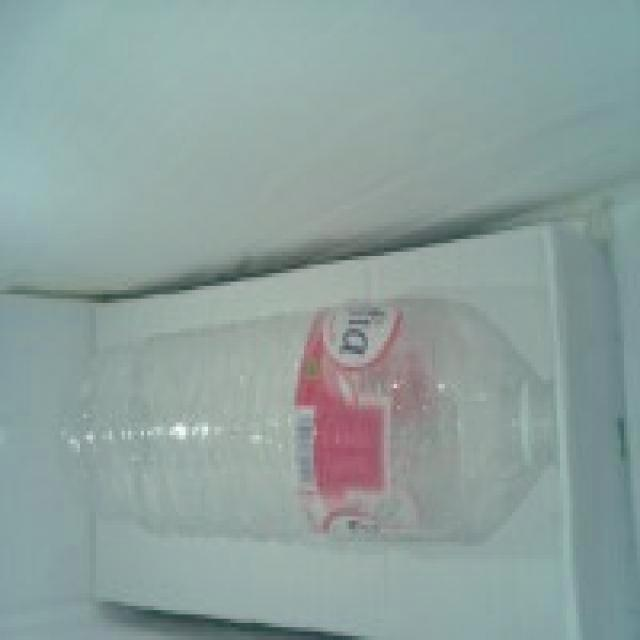bottle: (62, 297, 560, 547)
